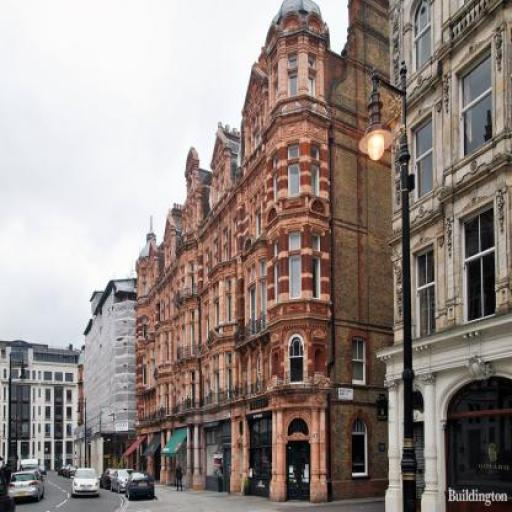street light: (358, 66, 427, 512), (7, 352, 27, 482), (78, 399, 92, 472)
